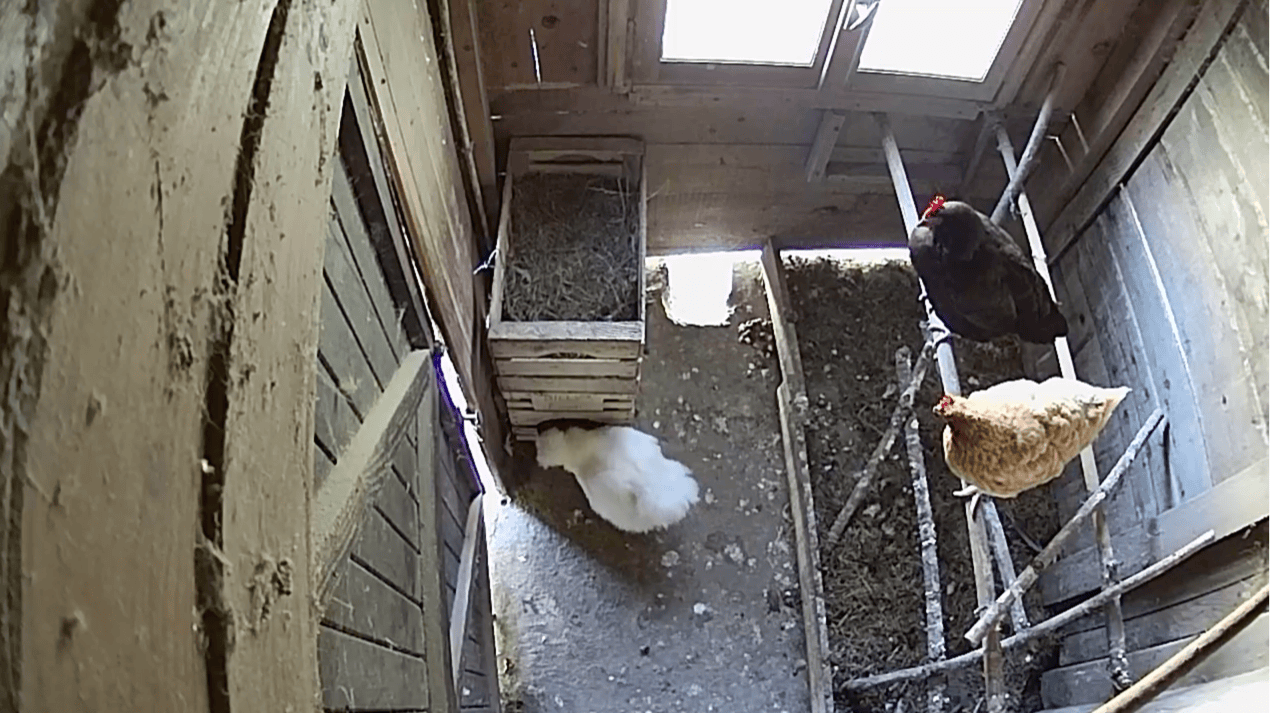chicken: (885, 186, 1081, 362), (918, 370, 1135, 517), (521, 405, 706, 544)
